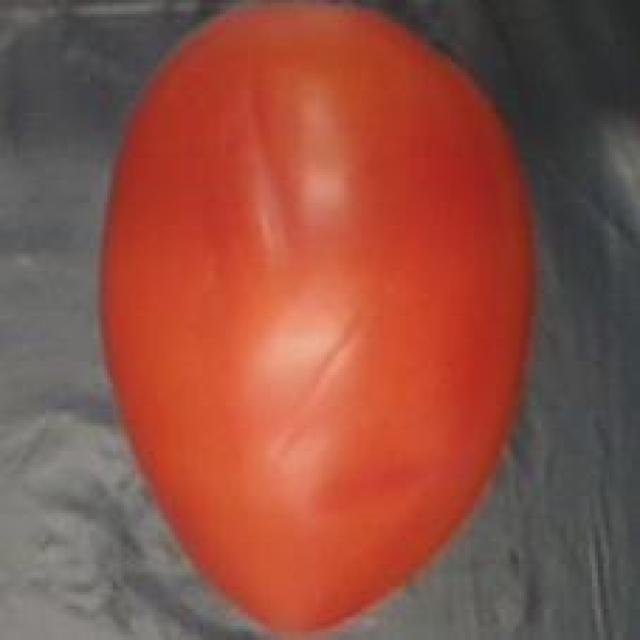ripe tomato: (82, 0, 544, 640)
